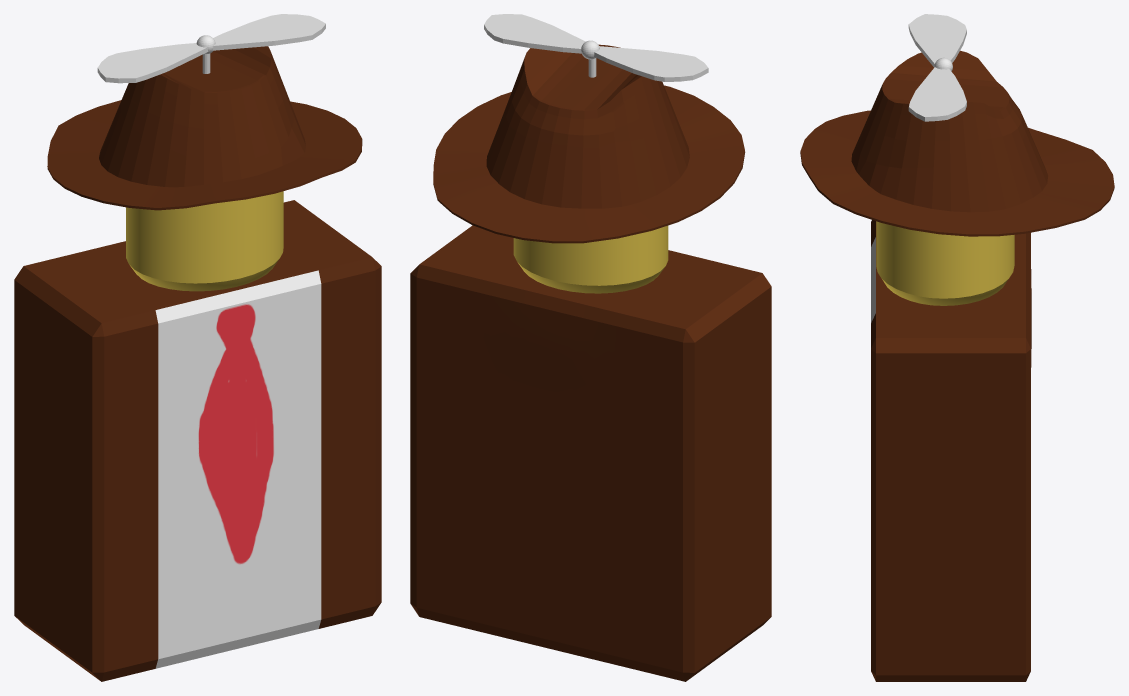
Rendered from detective.fbx.
The picture shows the model from 3 angles, left to right: view 1: azimuth 30°, elevation 25°; view 2: azimuth 150°, elevation 25°; view 3: azimuth 270°, elevation 25°; orthographic projection. The views are drawn at different scales.
Visible parts, largest first — view 1: Body, hat, Head, propeller; view 2: Body, hat, Head, propeller; view 3: Body, hat, Head, propeller.
Part boxes in pixels (x1,y1,x2,y2): Body: [14, 200, 381, 681]; hat: [47, 46, 362, 210]; Head: [126, 191, 283, 291]; propeller: [97, 14, 325, 83]; Body: [410, 225, 771, 681]; hat: [433, 44, 745, 243]; Head: [513, 225, 668, 293]; propeller: [484, 14, 708, 81]; Body: [871, 220, 1031, 681]; hat: [800, 50, 1114, 236]; Head: [876, 221, 1014, 305]; propeller: [908, 14, 966, 121].
Bounding box in the file's own units: 97.43 × 189 × 95.59.
